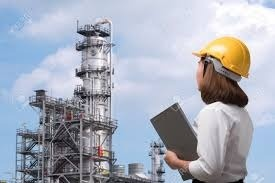helmet: (192, 33, 252, 80)
person with partial safety: (187, 32, 255, 182)
